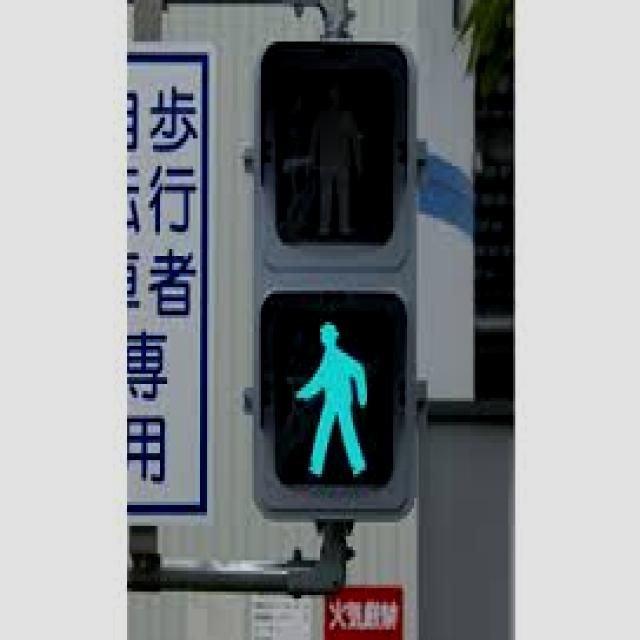trafficlight: (252, 38, 414, 516)
